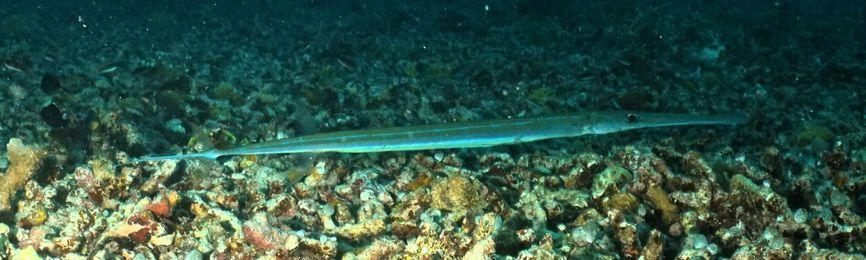Fistularia commersonii: (116, 107, 751, 166)
